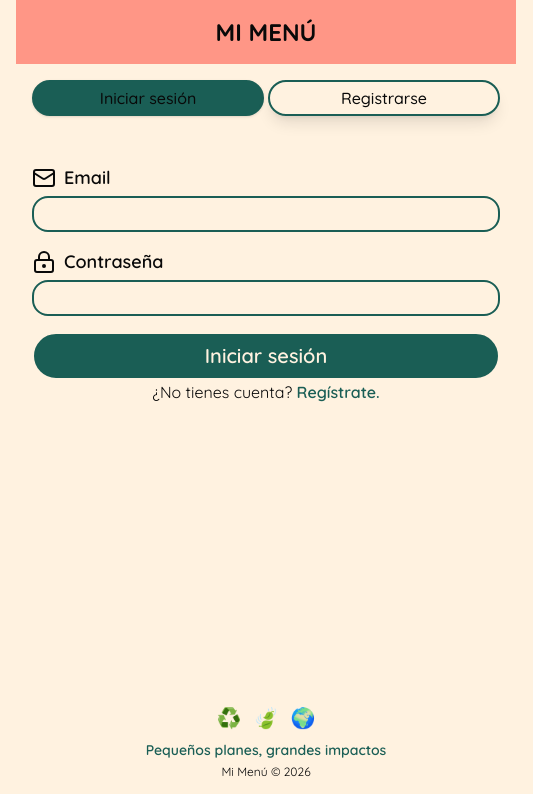
Scenario: Given the AuthPage › When it renders › And the user types their correct credentials and click on 'Iniciar sesión' button › Then it should show the HomePage with 3 links 'MENÚ SEMANAL', 'MI CESTA' & 'RECETAS'
Type "gamusina@gamusina.com" into the field labelled "Email".
click(266, 214); type("gamusina@gamusina.com")  # box x1=32 y1=196 x2=500 y2=232
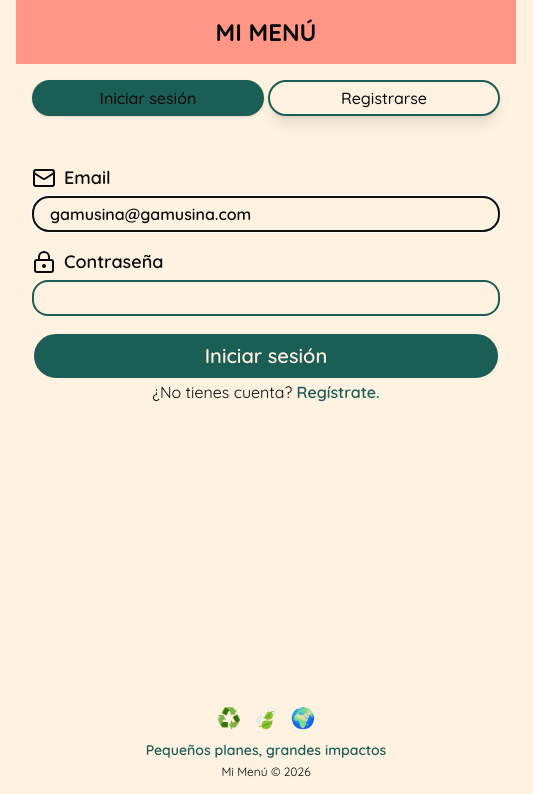
Type "import.meta.env.TEST_PASSWORD" into the password field labelled "Contraseña".
click(266, 298); type("import.meta.env.TEST_PASSWORD")  # box x1=32 y1=280 x2=500 y2=316
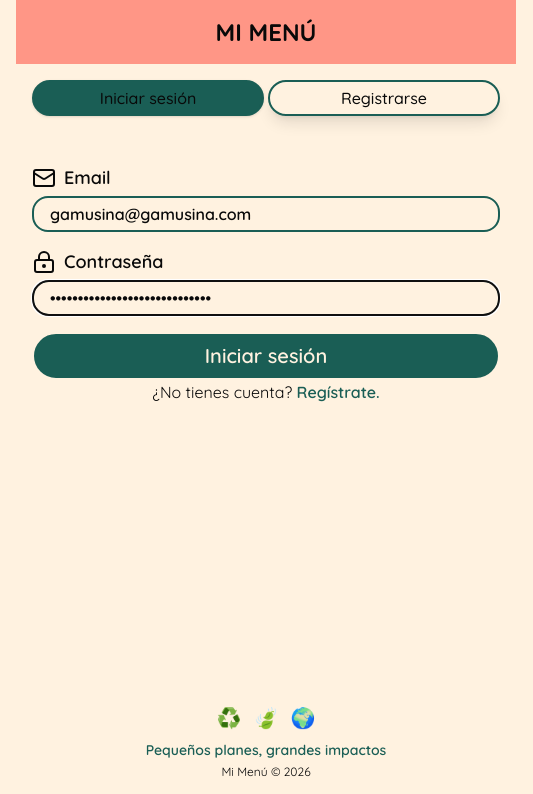
Click the button "Iniciar sesión".
click(266, 356)  # box x1=32 y1=332 x2=500 y2=380
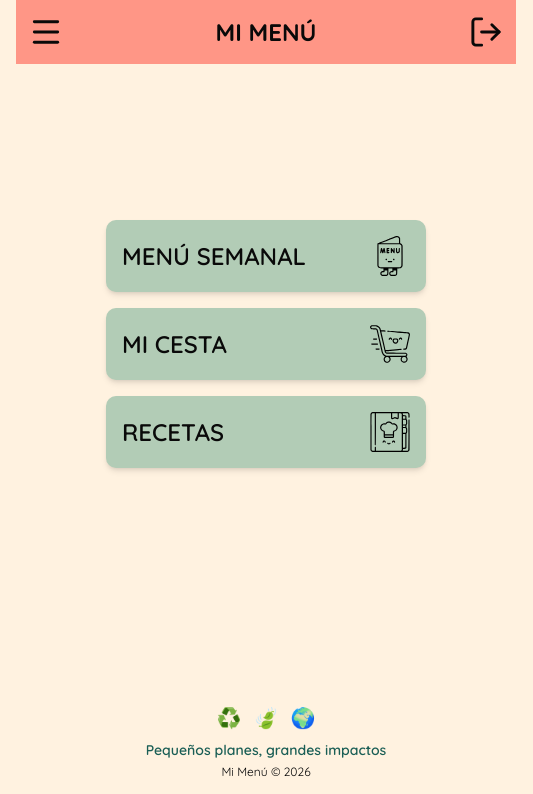
Expected: the link "MENÚ SEMANAL" is shown, x1=106 y1=220 x2=426 y2=292
Expected: the link "MI CESTA" is shown, x1=106 y1=308 x2=426 y2=380
Expected: the link "RECETAS" is shown, x1=106 y1=396 x2=426 y2=468
